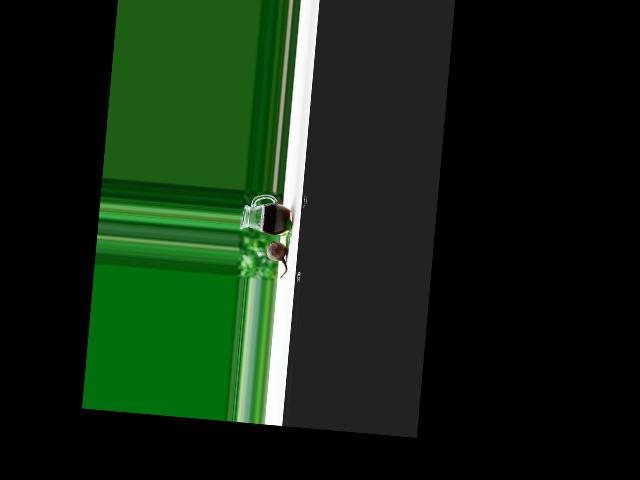beet: (264, 240, 289, 278)
